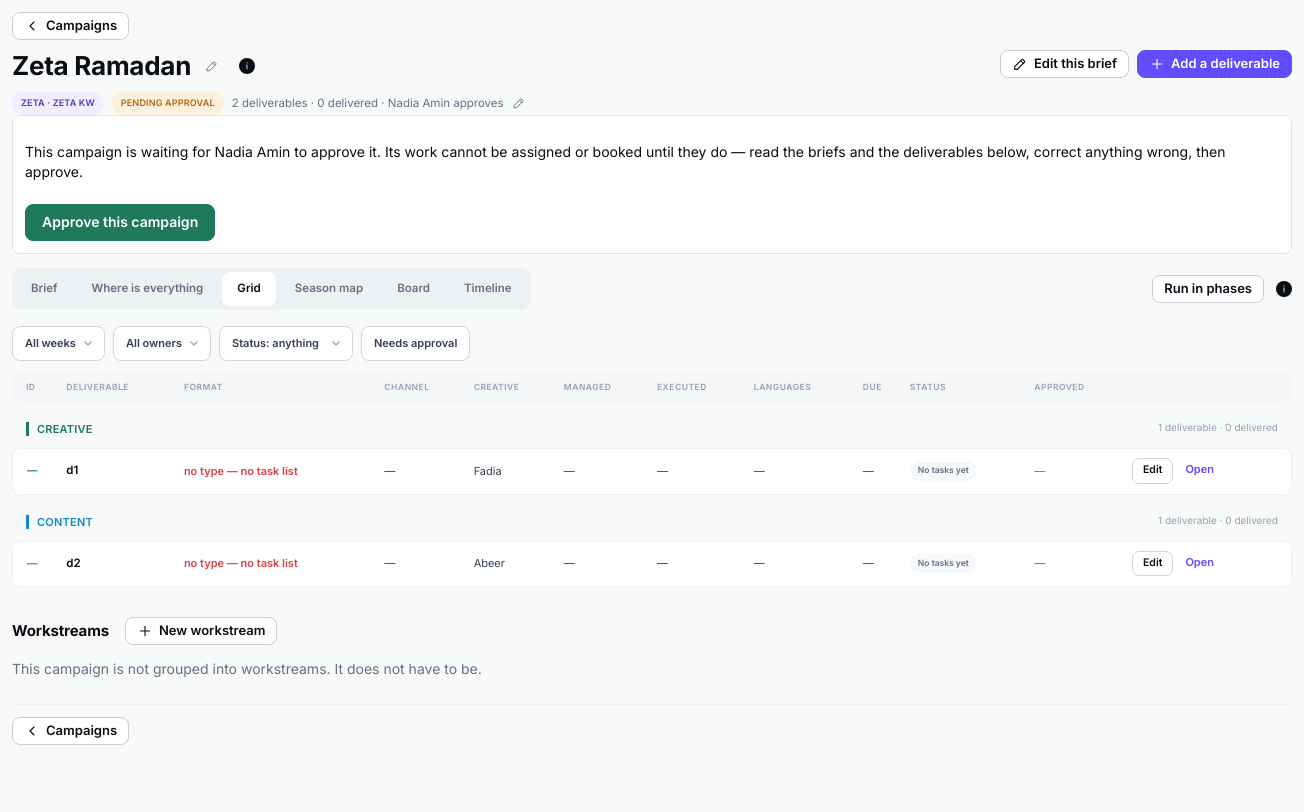
CampaignPage — the views, and the grid that took over the department tabs (CG-01, I57.4) › hides a group the filters have emptied
This screenshot has width=1304, height=812.
Select "Abeer" in the dropdown with test id "campaign-grid-filter-owner". click: (162,344)
box: [113, 326, 211, 361]
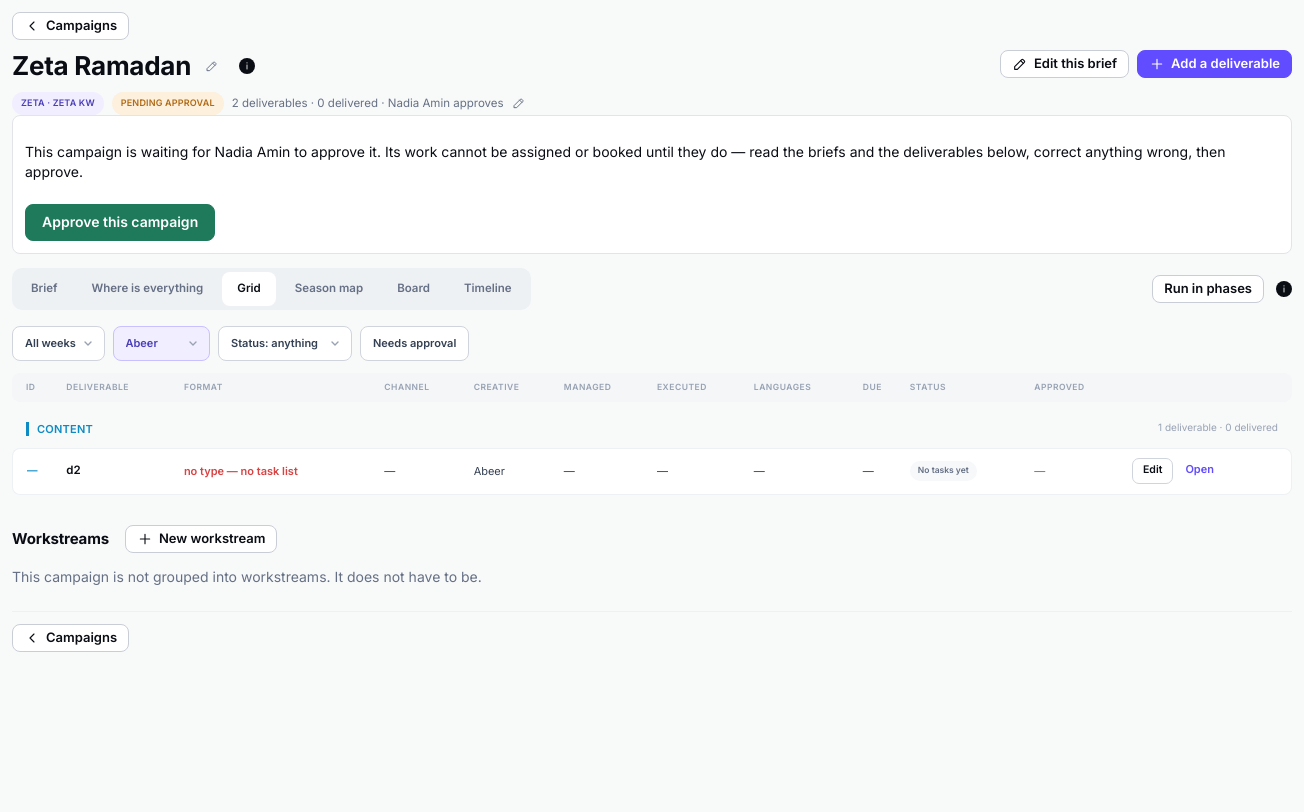
Check: the row with test id "campaign-grid-group-dept-content" is shown, box [12, 408, 1292, 442]
Check: the row with test id "campaign-grid-group-dept-creative" is gone
